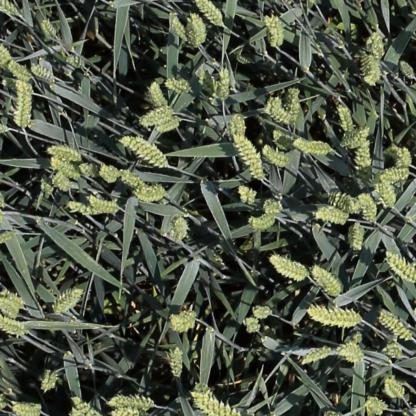whd: (194, 378, 244, 415), (122, 135, 170, 170), (233, 132, 265, 180), (11, 76, 34, 131), (307, 305, 364, 327), (269, 253, 309, 284), (328, 188, 368, 216), (385, 251, 415, 284), (379, 312, 413, 341), (313, 265, 343, 297), (108, 393, 157, 412), (293, 134, 335, 156), (262, 94, 293, 123), (52, 288, 86, 314), (2, 287, 33, 314), (169, 12, 193, 46), (170, 305, 199, 333), (361, 48, 381, 88), (196, 0, 225, 27), (0, 312, 32, 336), (312, 201, 348, 222), (376, 175, 396, 210), (49, 157, 80, 179), (354, 136, 371, 176), (358, 193, 379, 225), (226, 110, 246, 143), (135, 185, 168, 205), (150, 78, 170, 111), (140, 106, 173, 125), (168, 212, 187, 245), (387, 145, 411, 169), (346, 220, 364, 252), (262, 146, 292, 165), (342, 127, 370, 147), (384, 376, 406, 401), (48, 146, 82, 162), (188, 12, 204, 46), (120, 169, 148, 188), (71, 396, 99, 415), (338, 102, 354, 134), (301, 348, 333, 364), (282, 84, 299, 114), (66, 201, 102, 215), (168, 344, 182, 380), (7, 60, 32, 80), (382, 341, 407, 361), (88, 195, 119, 211), (12, 400, 43, 416), (270, 13, 284, 48), (49, 169, 72, 190), (272, 130, 296, 150), (250, 301, 274, 321), (29, 62, 55, 80), (290, 86, 302, 125), (40, 15, 58, 41), (263, 197, 287, 216), (339, 344, 364, 362), (246, 213, 275, 228), (397, 57, 415, 81), (238, 182, 256, 206), (99, 164, 119, 184), (198, 71, 216, 93), (373, 30, 385, 62), (38, 175, 54, 199), (219, 62, 229, 99), (42, 368, 56, 394), (380, 168, 409, 180), (78, 162, 99, 178), (0, 0, 21, 16), (365, 400, 385, 416), (157, 118, 181, 131), (0, 299, 16, 318), (244, 318, 262, 334), (0, 40, 12, 64), (166, 79, 190, 91), (112, 408, 142, 416), (66, 55, 86, 67), (0, 233, 14, 244)
